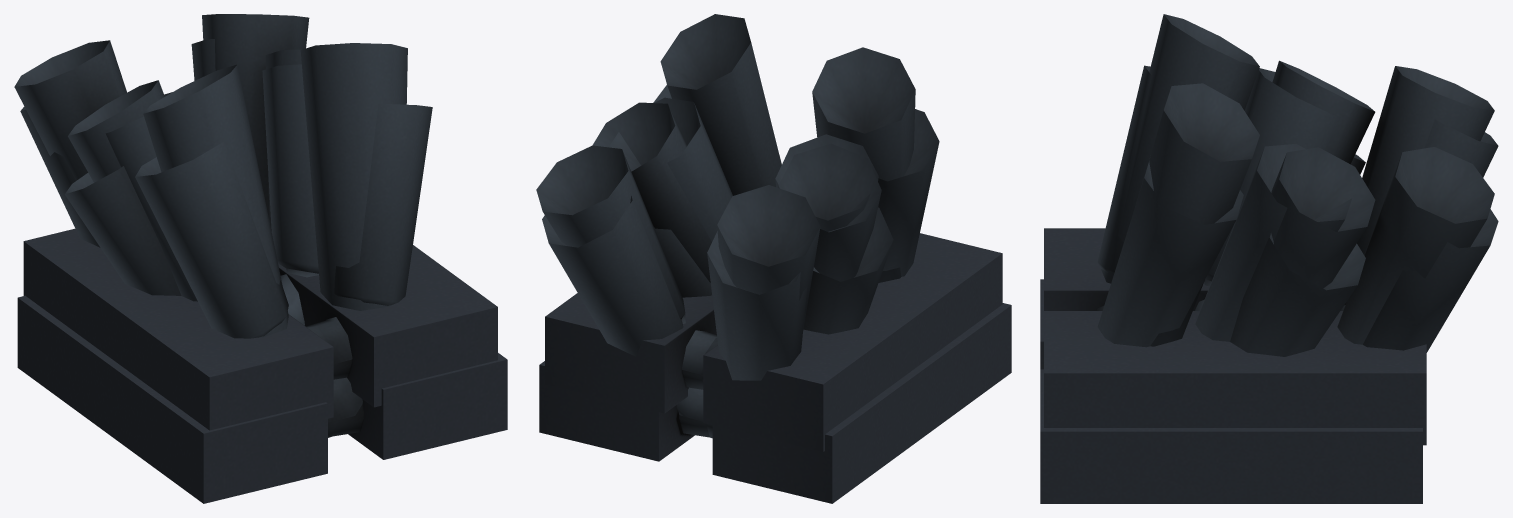
The model's file is Exhaust_pipe_v2.FBX.
3 renders of one model, left to right at view 1: azimuth 30°, elevation 25°; view 2: azimuth 150°, elevation 25°; view 3: azimuth 270°, elevation 25°, orthographic. The views are drawn at different scales.
Parts seen in each view (by area): view 1: Exhaust_pipe_v2_2, Exhaust_pipe_v2_2M, Exhaust_pipe_v2_3, Exhaust_pipe_v2_3M, Exhaust_pipe_v2_1, Exhaust_pipe_v2_1M; view 2: Exhaust_pipe_v2_3, Exhaust_pipe_v2_2, Exhaust_pipe_v2_2M, Exhaust_pipe_v2_3M, Exhaust_pipe_v2_1, Exhaust_pipe_v2_1M; view 3: Exhaust_pipe_v2_2M, Exhaust_pipe_v2_2, Exhaust_pipe_v2_3M, Exhaust_pipe_v2_3, Exhaust_pipe_v2_1, Exhaust_pipe_v2_1M.
Boxes of the visible parts, x1,y1,x2,y2 form: Exhaust_pipe_v2_2: [23, 14, 432, 430]; Exhaust_pipe_v2_2M: [14, 40, 497, 407]; Exhaust_pipe_v2_3: [17, 39, 407, 503]; Exhaust_pipe_v2_3M: [20, 64, 507, 459]; Exhaust_pipe_v2_1: [262, 64, 318, 324]; Exhaust_pipe_v2_1M: [105, 92, 304, 325]; Exhaust_pipe_v2_3: [542, 14, 1011, 503]; Exhaust_pipe_v2_2: [536, 85, 1002, 451]; Exhaust_pipe_v2_2M: [545, 109, 939, 413]; Exhaust_pipe_v2_3M: [539, 47, 915, 461]; Exhaust_pipe_v2_1: [610, 97, 732, 241]; Exhaust_pipe_v2_1M: [775, 134, 878, 231]; Exhaust_pipe_v2_2M: [1044, 60, 1494, 445]; Exhaust_pipe_v2_2: [1044, 147, 1494, 347]; Exhaust_pipe_v2_3M: [1040, 14, 1498, 503]; Exhaust_pipe_v2_3: [1040, 83, 1498, 369]; Exhaust_pipe_v2_1: [1195, 144, 1351, 341]; Exhaust_pipe_v2_1M: [1194, 68, 1340, 310].
Size of the model in its own units: 0.635 by 0.7232 by 0.806.
